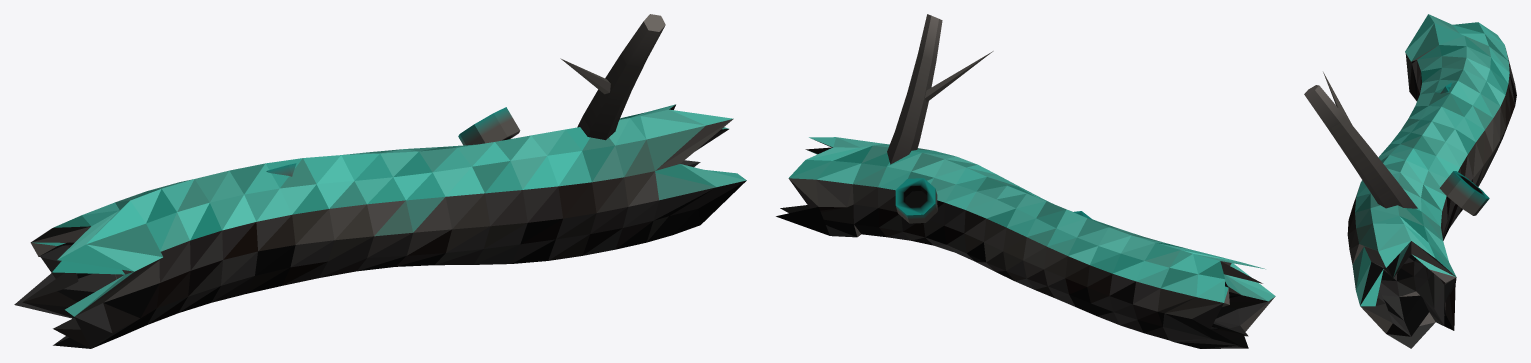
Rendered from pohon_tumbang_hollow_swamp_75785.glb.
3 views of the same model, side by side, from view 1: azimuth 30°, elevation 25°; view 2: azimuth 150°, elevation 25°; view 3: azimuth 270°, elevation 25° (orthographic). The views are drawn at different scales.
Visible parts, largest first — view 1: Batang_Pohon_Berlubang; view 2: Batang_Pohon_Berlubang; view 3: Batang_Pohon_Berlubang.
Part boxes in pixels (bbox=[...]): Batang_Pohon_Berlubang: bbox=[14, 14, 746, 348]; Batang_Pohon_Berlubang: bbox=[776, 14, 1275, 348]; Batang_Pohon_Berlubang: bbox=[1304, 14, 1516, 348].
Bounding box in the file's own units: 5.56 × 2.2 × 1.94.
